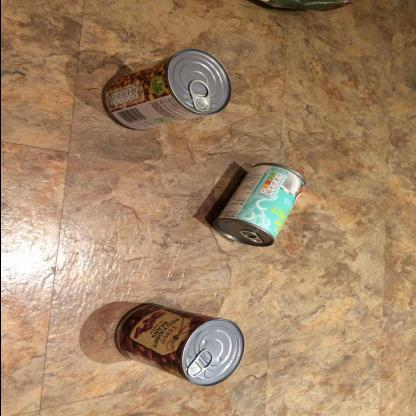metal: (101, 48, 233, 133), (113, 302, 245, 387), (209, 161, 308, 249)
